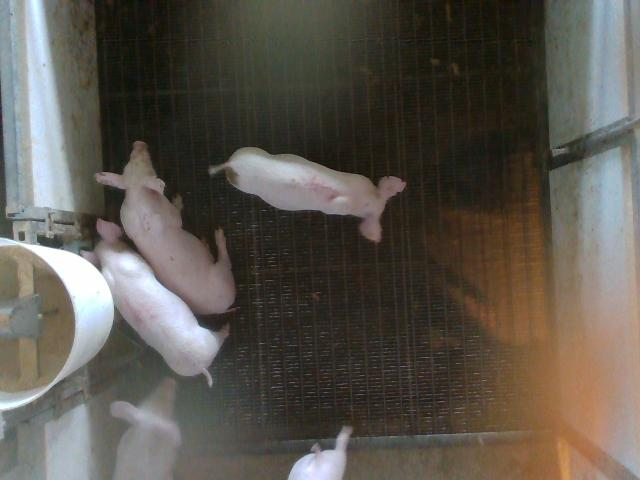pig-4: (81, 219, 229, 384)
pig-5: (209, 148, 406, 242)
